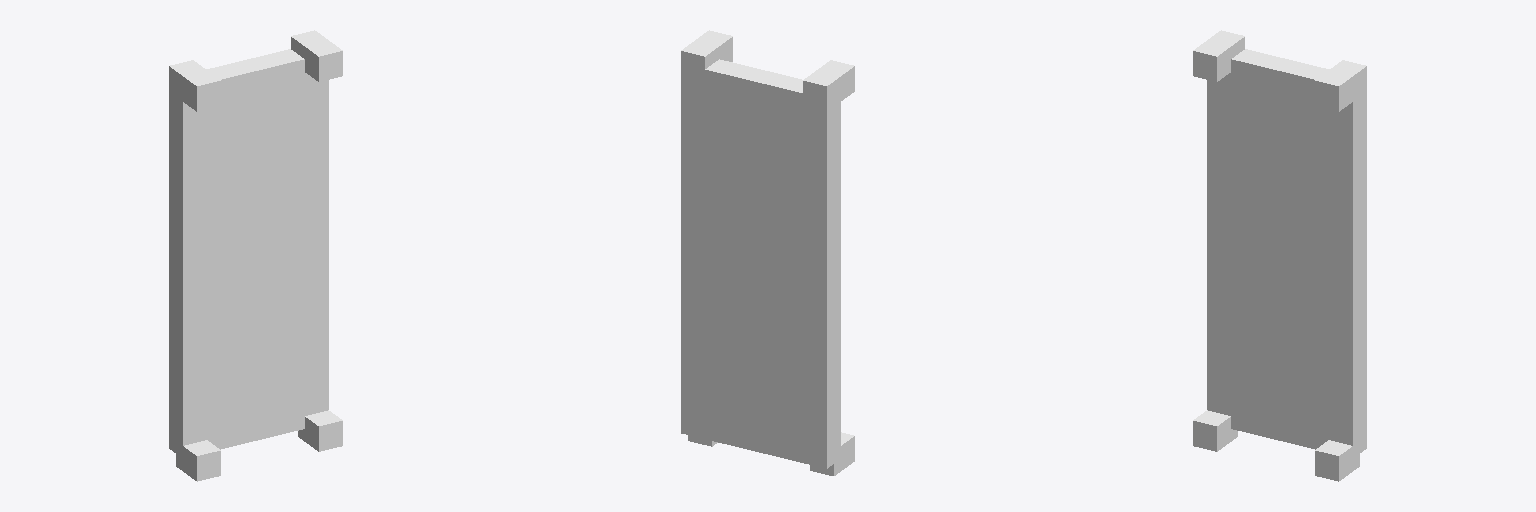
Rendered from Tutorialmap_V2_unfinished-26.obj.
The picture shows the model from 3 angles: view 1: azimuth 30°, elevation 25°; view 2: azimuth 150°, elevation 25°; view 3: azimuth 330°, elevation 25°; orthographic projection.
Parts seen in each view (by area): view 1: object 1; view 2: object 1; view 3: object 1.
Boxes of the visible parts, box(x1,y1,x2,y2) form: object 1: box(169, 30, 342, 481); object 1: box(681, 30, 854, 475); object 1: box(1193, 30, 1366, 481).
Size of the model in its own units: 1.2 by 3.1 by 0.4.